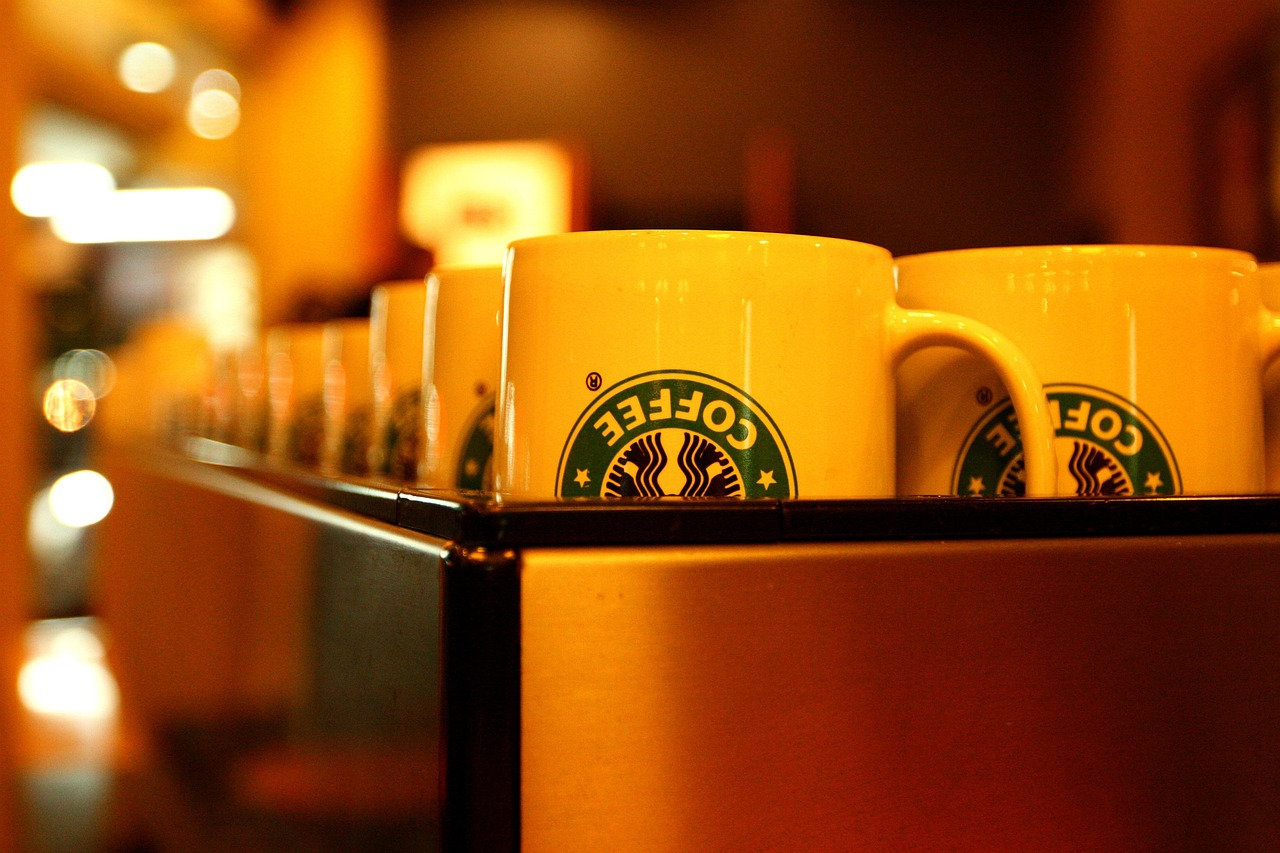mug: (389, 184, 1064, 741)
